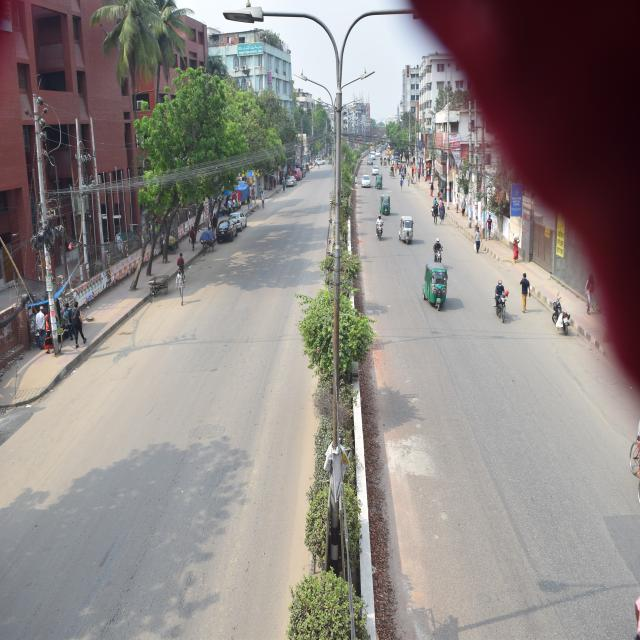car: (218, 216, 239, 246), (227, 204, 246, 230), (359, 172, 373, 194), (371, 164, 380, 178)
motorbike: (488, 274, 516, 328), (548, 294, 577, 342), (429, 233, 451, 263), (372, 212, 392, 240)
